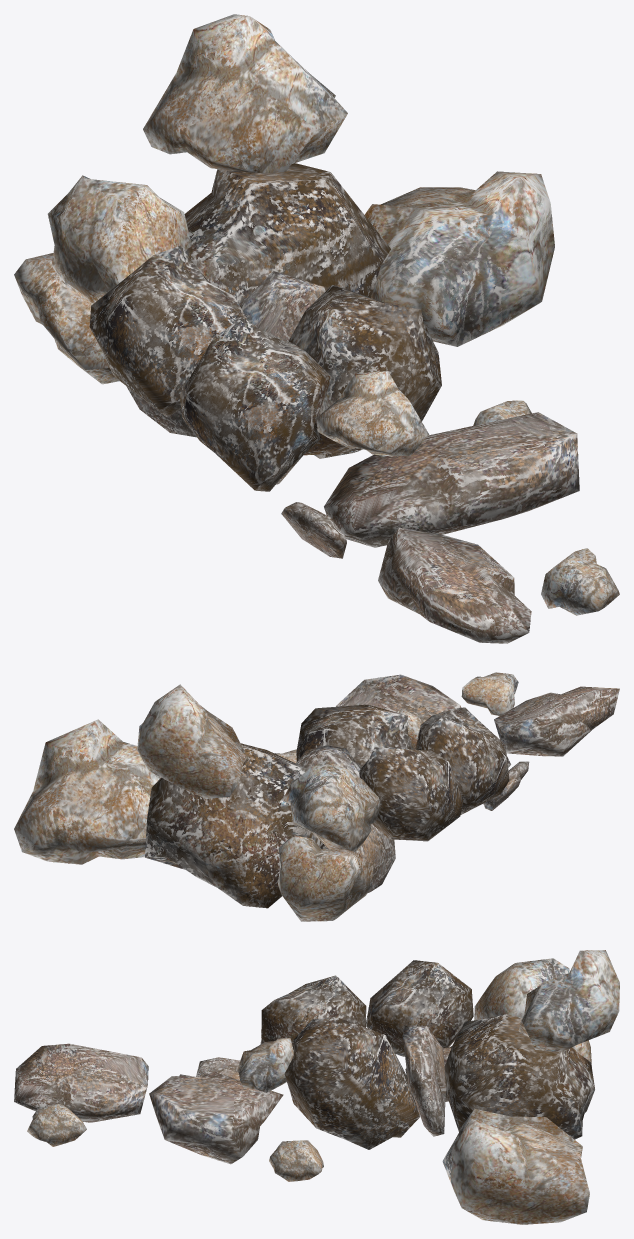
The model's file is SM_pebbles_group_02.fbx.
3 views of the same model, one above another, from view 1: azimuth 30°, elevation 25°; view 2: azimuth 150°, elevation 25°; view 3: azimuth 270°, elevation 25° (orthographic). The views are drawn at different scales.
Parts seen in each view (by area): view 1: SM_pebbles_group_02_LOD0; view 2: SM_pebbles_group_02_LOD0; view 3: SM_pebbles_group_02_LOD0.
Part boxes in pixels (x1=…): SM_pebbles_group_02_LOD0: x1=14, y1=14, x2=619, y2=643; SM_pebbles_group_02_LOD0: x1=14, y1=672, x2=619, y2=921; SM_pebbles_group_02_LOD0: x1=14, y1=950, x2=619, y2=1224.
Size of the model in its own units: 45.19 by 70.02 by 26.57.
1 material, 1 textured.
